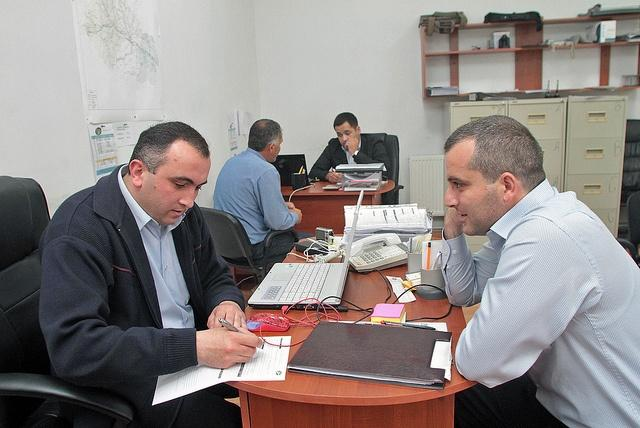Filing Cabinet: (561, 94, 628, 242), (507, 96, 567, 192)
Rak: (420, 11, 629, 98)
